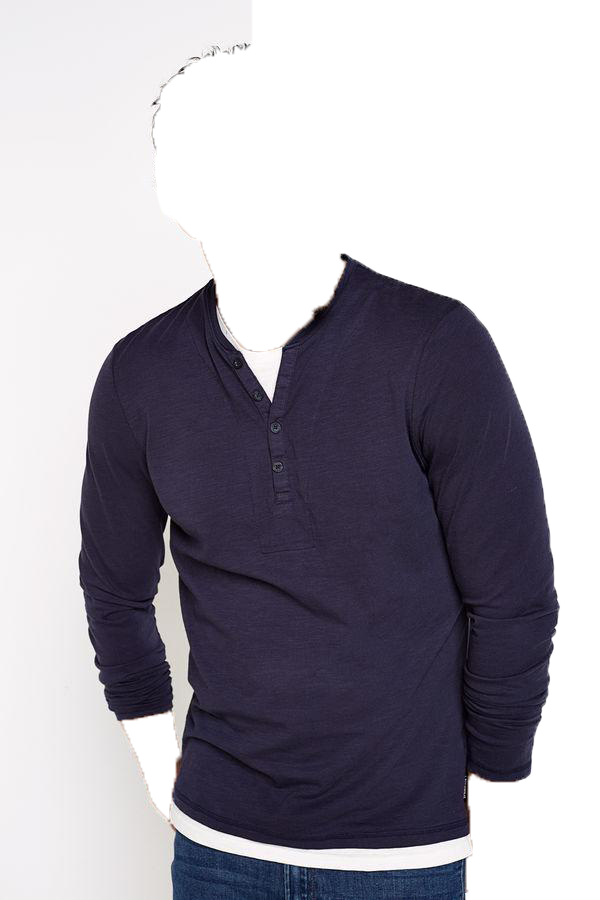teeshirt: (61, 254, 568, 863)
